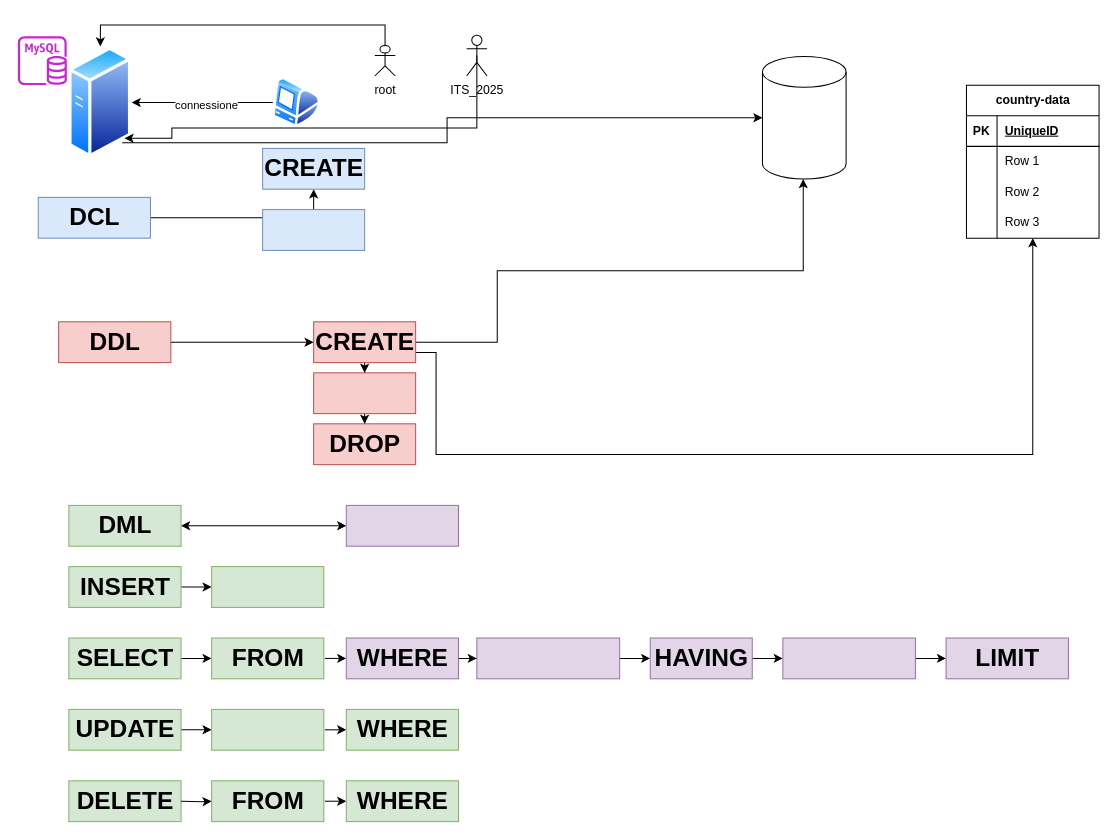
The diagram is 1117 pixels wide and 839 high, and some of its shapes have lost their labels. The shapes that lost their labels are listed below. From the top down, each one's centre as x and y in pixels, then its label:
At (99,102): "Mysql80".
At (803,117): "esercitazioni".
At (313,229): "GRANT".
At (364,393): "ALTER".
At (401,525): "DQL".
At (267,586): "INTO".
At (548,658): "GROUP BY".
At (848,658): "ORDER BY".
At (267,729): "SET".
